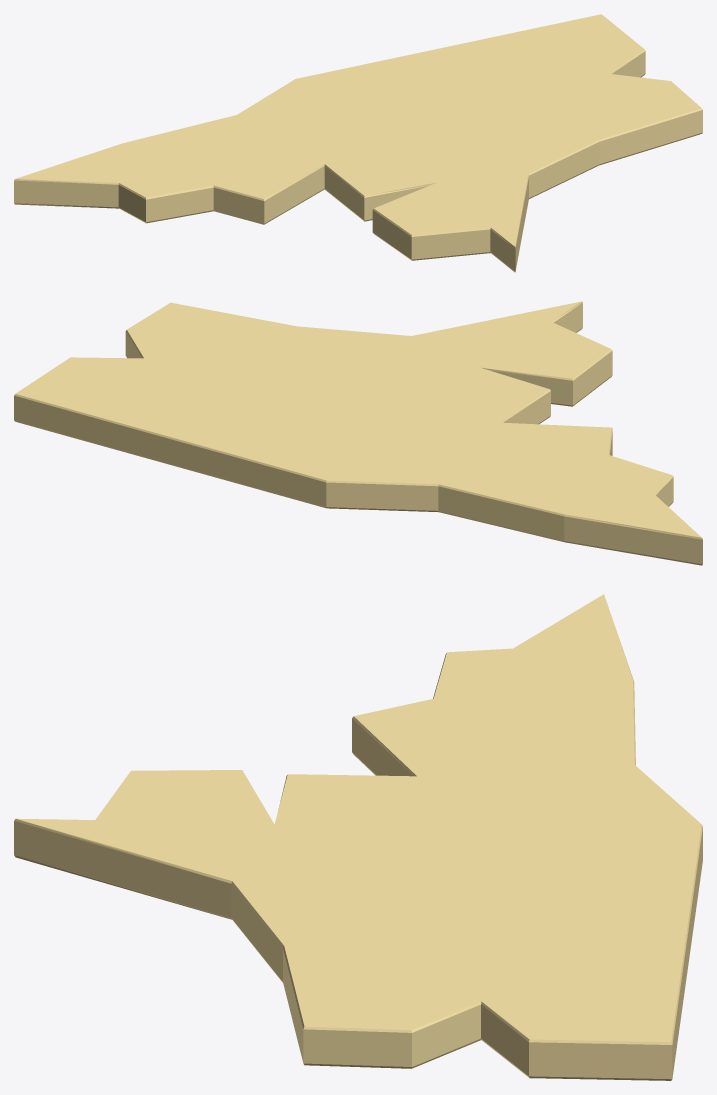
The model's file is GNB.glb.
3 views of the same model, one above another, from view 1: azimuth 30°, elevation 25°; view 2: azimuth 150°, elevation 25°; view 3: azimuth 270°, elevation 25° (orthographic). The views are drawn at different scales.
Size of the model in its own units: 1.69 by 0.068 by 1.1.
